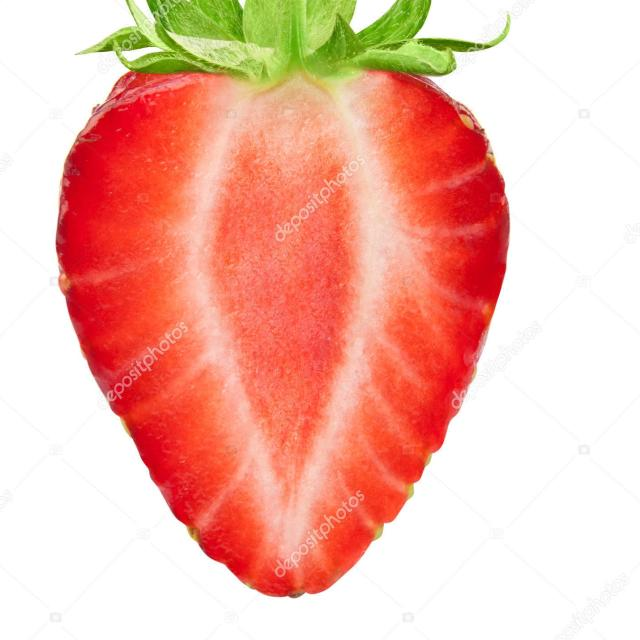strawberry: (57, 0, 518, 602)
